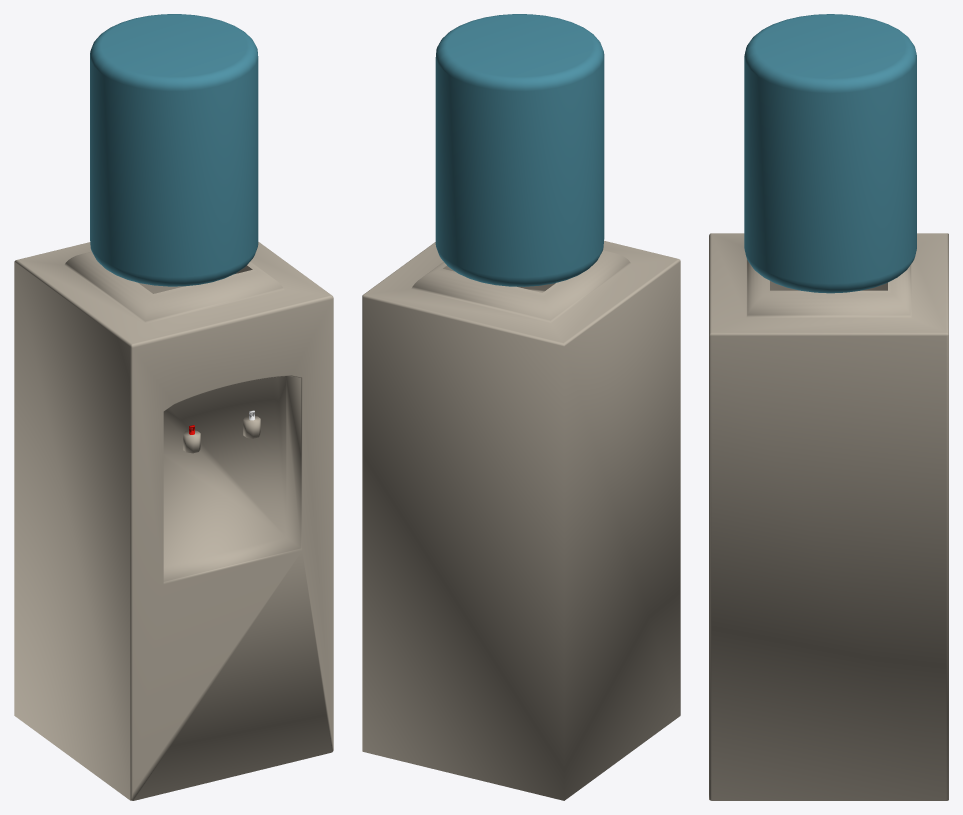
Rendered from WaterCooler.fbx.
3 renders of one model, left to right at view 1: azimuth 30°, elevation 25°; view 2: azimuth 150°, elevation 25°; view 3: azimuth 270°, elevation 25°, orthographic. The views are drawn at different scales.
Visible parts, largest first — view 1: Water Cooler; view 2: Water Cooler; view 3: Water Cooler.
Boxes of the visible parts, <box> form: Water Cooler: <box>14,14,333,800</box>; Water Cooler: <box>362,14,680,800</box>; Water Cooler: <box>709,14,948,800</box>.
Bounding box in the file's own units: 0.9144 × 2.96 × 0.9144.
